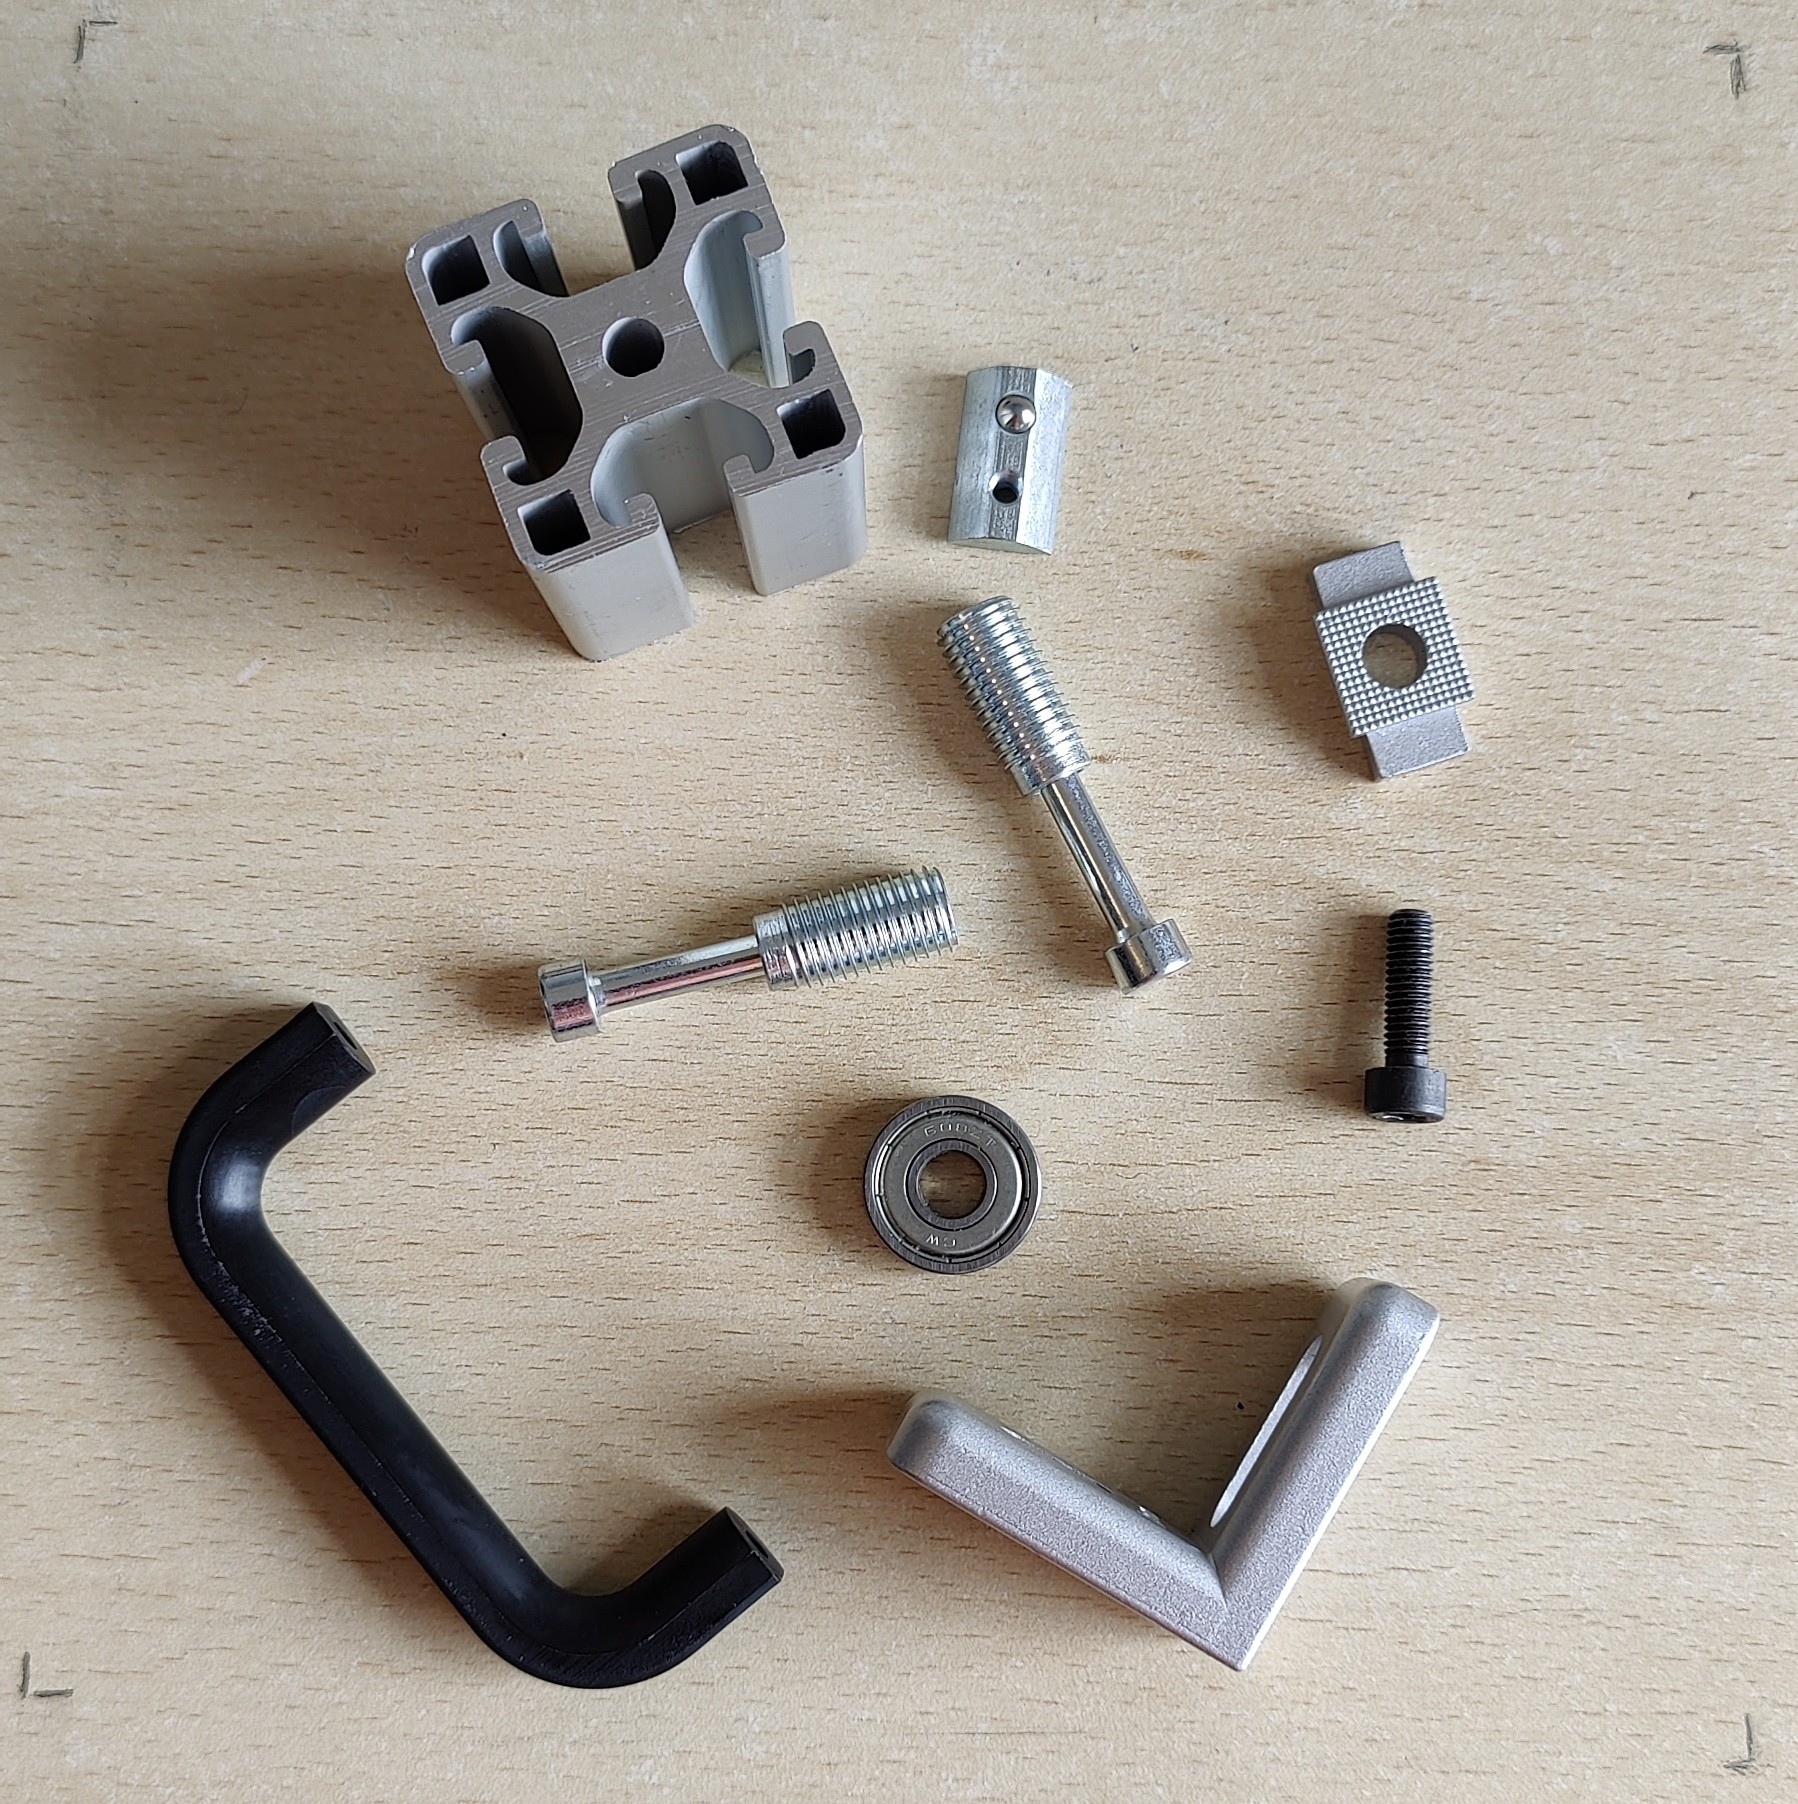Aluminium Extension: (402, 119, 869, 663)
Ball Bearing: (858, 1093, 1042, 1276)
Multiwinkel: (881, 1277, 1442, 1676)
Pull Handle: (163, 997, 787, 1692)
Shoulder Socket Head Cap Screw: (935, 593, 1199, 997), (533, 859, 963, 1045)
Socket Head Cap Screw: (1358, 907, 1451, 1127)
T Nut Square: (1307, 540, 1479, 787)
T Spring Nut: (945, 362, 1074, 560)
